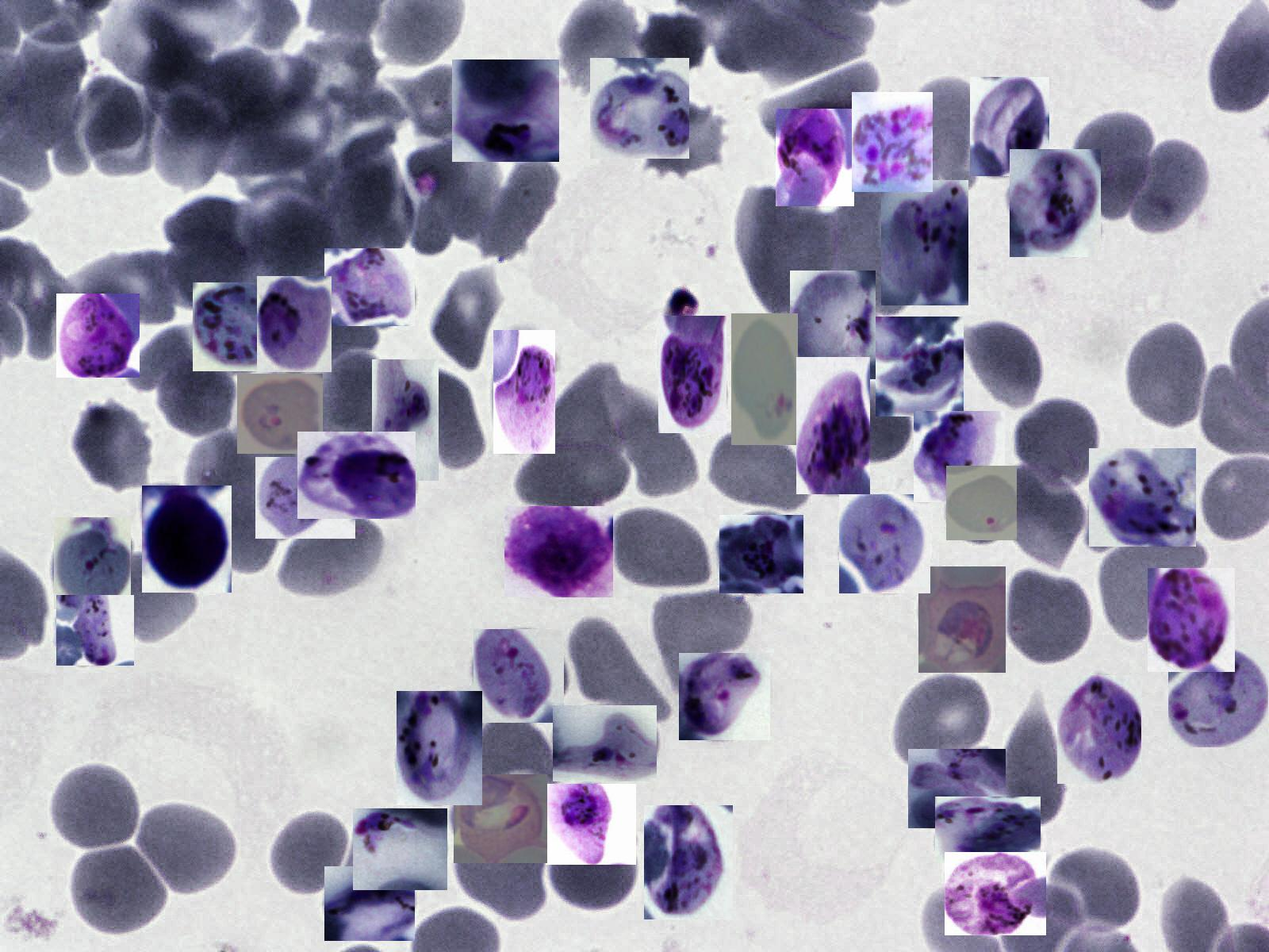Infected: (452, 60, 559, 162), (881, 180, 968, 305), (1089, 448, 1196, 547), (297, 432, 416, 519), (644, 805, 733, 919), (796, 357, 870, 494), (590, 58, 689, 159), (504, 506, 613, 597), (1168, 648, 1268, 747), (1010, 149, 1101, 257), (397, 691, 482, 805), (142, 486, 232, 593), (918, 567, 1006, 674), (790, 271, 876, 379), (1057, 675, 1141, 784), (1148, 568, 1235, 672), (839, 494, 930, 593), (731, 313, 798, 445), (876, 317, 964, 416), (473, 629, 564, 723), (193, 282, 288, 371), (945, 852, 1046, 935), (914, 411, 1005, 502), (454, 774, 547, 863), (255, 457, 355, 539), (372, 359, 439, 481), (852, 92, 933, 192), (658, 316, 727, 433), (679, 653, 770, 740), (553, 705, 657, 781), (970, 77, 1049, 176), (908, 749, 1006, 828), (353, 808, 447, 890), (493, 330, 555, 454), (776, 109, 854, 206), (546, 784, 636, 865), (257, 276, 332, 372), (324, 248, 415, 326), (54, 517, 131, 609), (56, 294, 140, 378), (935, 797, 1041, 863), (237, 374, 323, 454), (324, 866, 415, 941), (719, 515, 803, 593), (56, 595, 134, 666), (946, 466, 1017, 540)
Uninfected: (740, 190, 836, 316), (1101, 530, 1209, 642), (1072, 105, 1162, 225), (834, 175, 911, 313), (401, 141, 493, 256), (273, 508, 389, 599), (569, 618, 669, 722), (1121, 316, 1210, 432), (469, 152, 564, 260), (136, 800, 241, 896), (657, 589, 753, 693), (607, 501, 712, 595), (456, 824, 547, 931), (69, 841, 167, 939), (48, 760, 147, 857), (765, 62, 881, 144), (994, 459, 1082, 567), (75, 75, 160, 184), (819, 373, 917, 467), (531, 365, 626, 460), (895, 673, 990, 765), (68, 397, 159, 493), (1013, 393, 1100, 492), (705, 436, 811, 516), (958, 314, 1046, 410), (618, 393, 698, 497), (107, 549, 196, 642), (1001, 700, 1066, 827), (412, 363, 486, 474), (516, 443, 631, 513), (185, 428, 270, 522), (1008, 572, 1090, 669), (1123, 138, 1205, 235), (432, 267, 504, 376), (268, 806, 352, 899), (634, 96, 726, 180), (1048, 847, 1141, 928), (551, 827, 638, 911), (165, 232, 255, 313), (463, 715, 560, 790), (915, 78, 979, 190), (155, 92, 225, 194), (72, 251, 174, 321), (313, 351, 381, 448), (159, 354, 236, 439), (199, 489, 275, 574), (632, 8, 715, 81)
